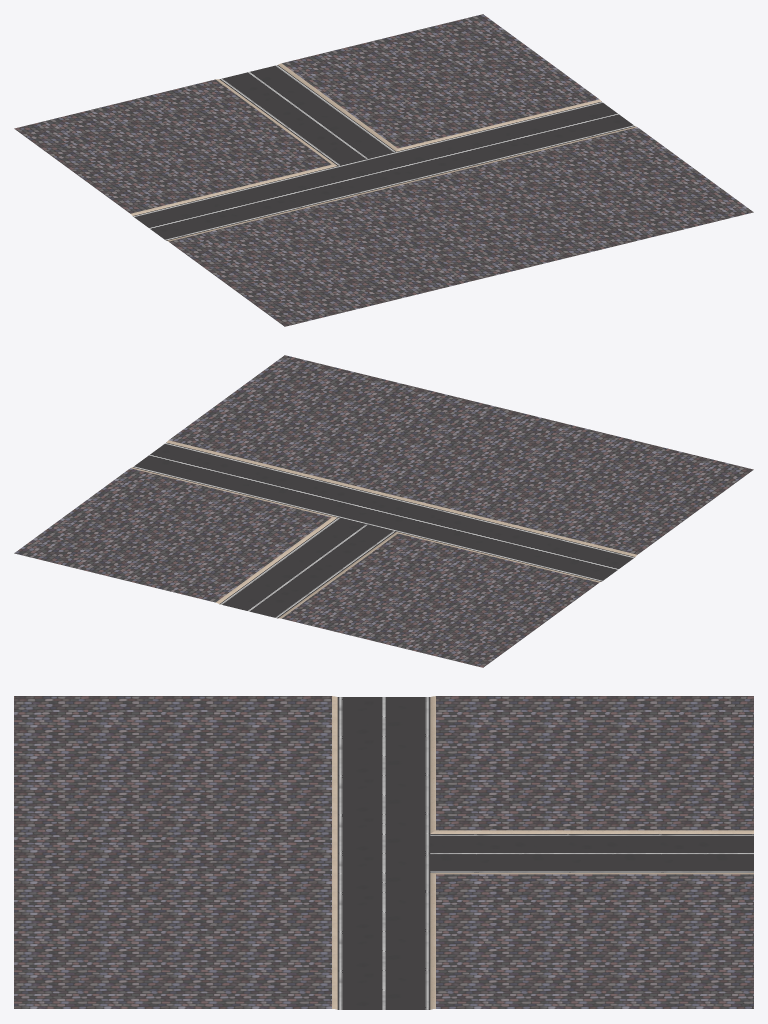
The model's file is RoadT_SNW.fbx.
3 renders of one model, top to bottom at view 1: azimuth 30°, elevation 25°; view 2: azimuth 150°, elevation 25°; view 3: azimuth 270°, elevation 25°, orthographic. The views are drawn at different scales.
Parts seen in each view (by area): view 1: RoadT_SNW; view 2: RoadT_SNW; view 3: RoadT_SNW.
Part boxes in pixels (bbox=[...]): RoadT_SNW: bbox=[14, 14, 753, 326]; RoadT_SNW: bbox=[14, 355, 753, 667]; RoadT_SNW: bbox=[14, 696, 753, 1009].
Size of the model in its own units: 6400 by 10 by 6400.
